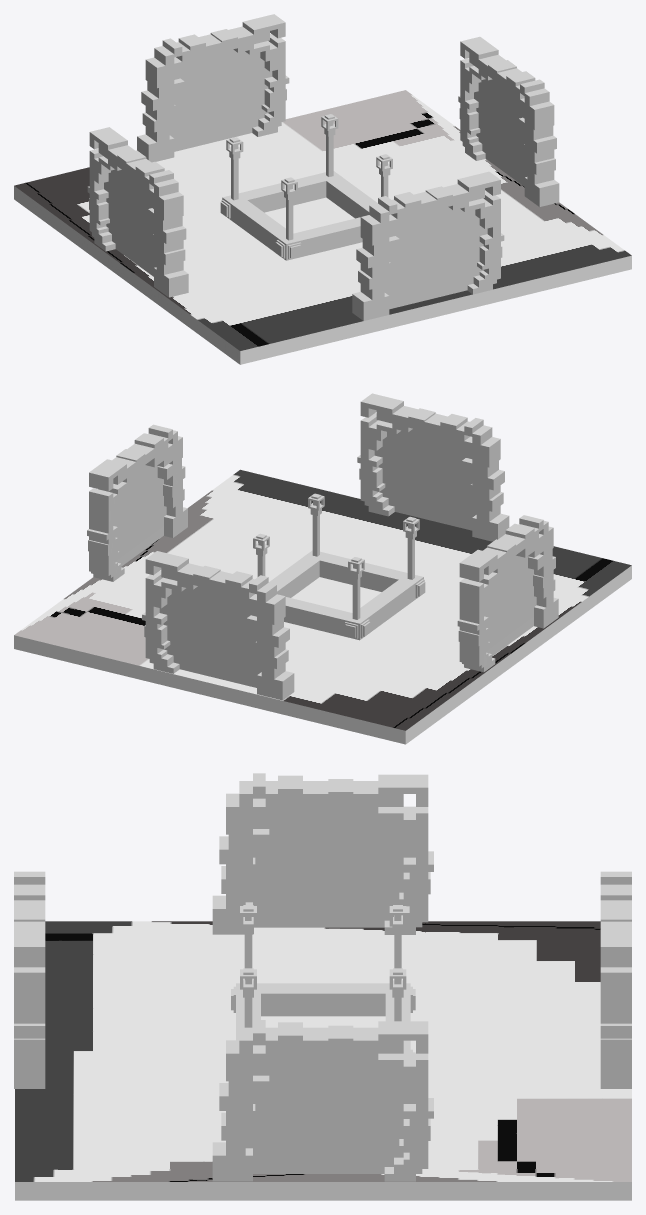
The model's file is HubV4.fbx.
3 views of the same model, one above another, from view 1: azimuth 30°, elevation 25°; view 2: azimuth 150°, elevation 25°; view 3: azimuth 270°, elevation 25° (orthographic). The views are drawn at different scales.
Parts seen in each view (by area): view 1: Floor, ArkV2, ArkV2.2, Reception, Veil.003, Veil, Veil.001, Veil.002; view 2: Floor, ArkV2, ArkV2.2, Reception, Veil, Veil.003, Veil.001, Veil.002; view 3: Floor, ArkV2.2, Veil.001, Veil.002, ArkV2, Reception.
Part boxes in pixels (x1,y1,x2,y2): Floor: [14, 90, 631, 364]; ArkV2: [137, 14, 504, 320]; ArkV2.2: [87, 36, 559, 297]; Reception: [220, 114, 392, 260]; Veil.003: [169, 49, 272, 151]; Veil: [384, 207, 487, 309]; Veil.001: [474, 79, 527, 186]; Veil.002: [104, 169, 156, 276]; Floor: [14, 469, 631, 744]; ArkV2: [142, 393, 509, 700]; ArkV2.2: [87, 424, 558, 672]; Reception: [253, 493, 425, 640]; Veil: [374, 428, 476, 530]; Veil.003: [159, 586, 261, 687]; Veil.001: [113, 465, 166, 566]; Veil.002: [484, 555, 536, 656]; Floor: [15, 921, 631, 1200]; ArkV2.2: [212, 773, 433, 1181]; Veil.001: [245, 1053, 415, 1173]; Veil.002: [245, 807, 415, 927]; ArkV2: [14, 871, 631, 1088]; Reception: [231, 905, 415, 1053].
Bounding box in the file's own units: 4950 × 1482 × 4959.
